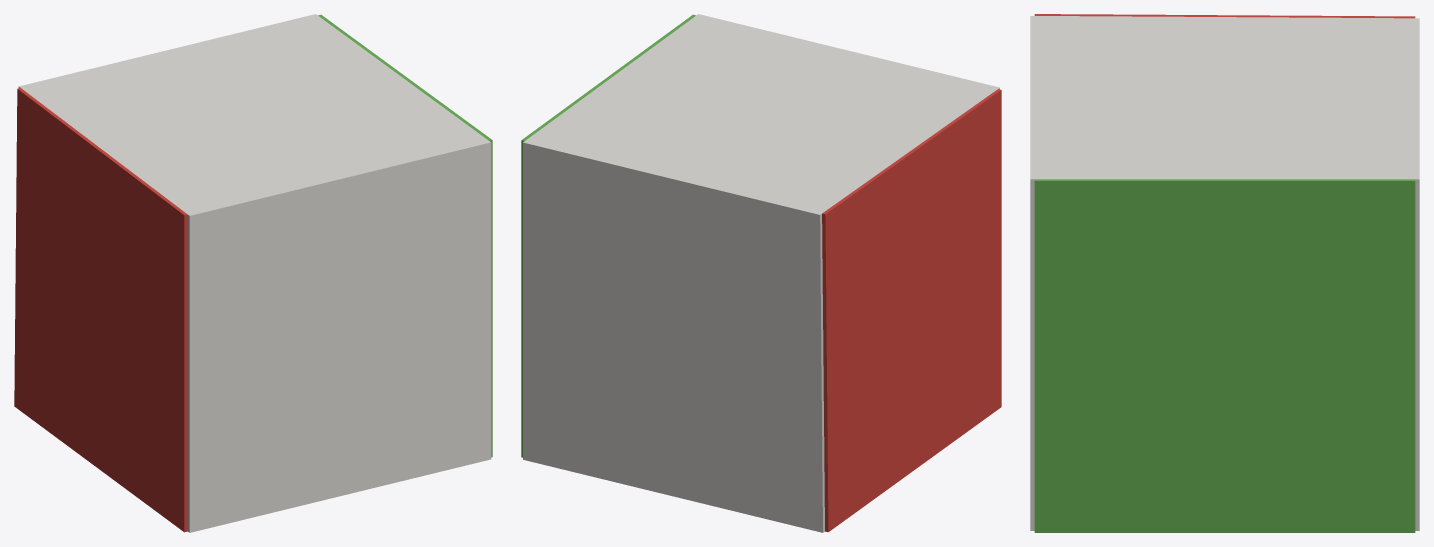
File: cBox.glb
3 renders of one model, left to right at view 1: azimuth 30°, elevation 25°; view 2: azimuth 150°, elevation 25°; view 3: azimuth 270°, elevation 25°, orthographic. The views are drawn at different scales.
Visible parts, largest first — view 1: CornellBox-Original; view 2: CornellBox-Original; view 3: CornellBox-Original.
Part boxes in pixels (<box>): CornellBox-Original: <box>14,14,492,532</box>; CornellBox-Original: <box>521,14,1001,532</box>; CornellBox-Original: <box>1030,14,1419,532</box>.
Bounding box in the file's own units: 2.07 × 2.03 × 2.04.
